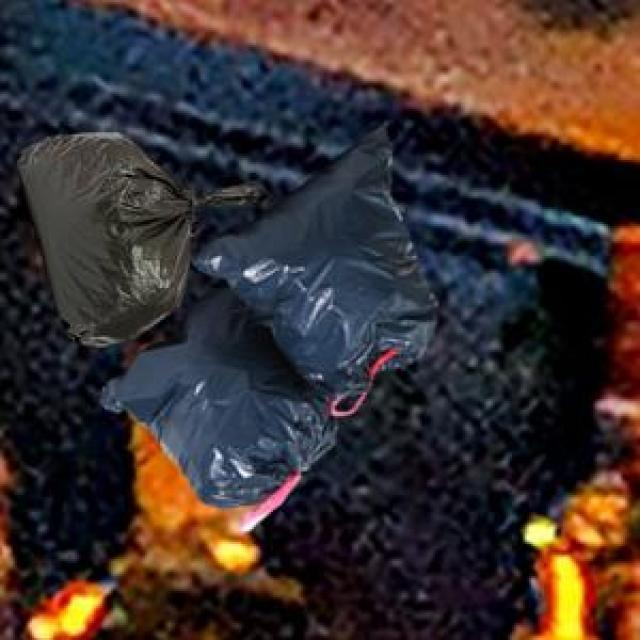waste: (19, 127, 435, 507)
